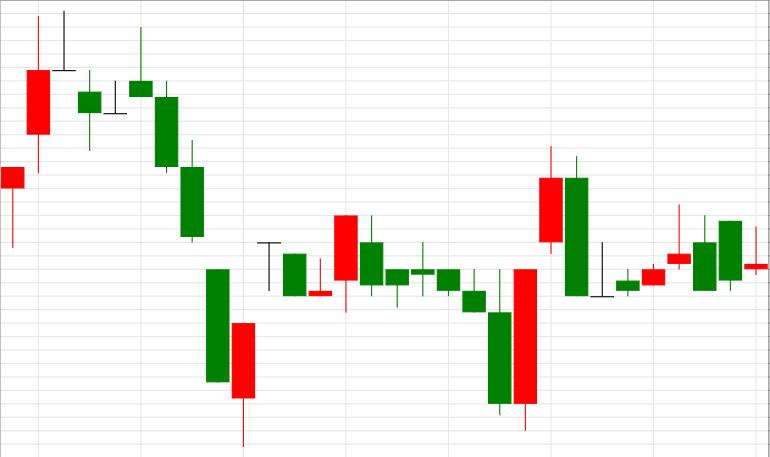bullish_engulfing_rise: (360, 216, 537, 432)
